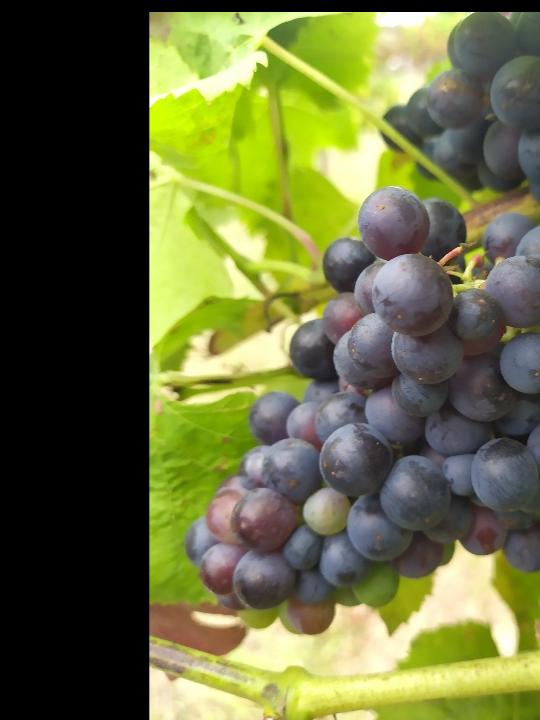grape: (182, 189, 540, 637)
